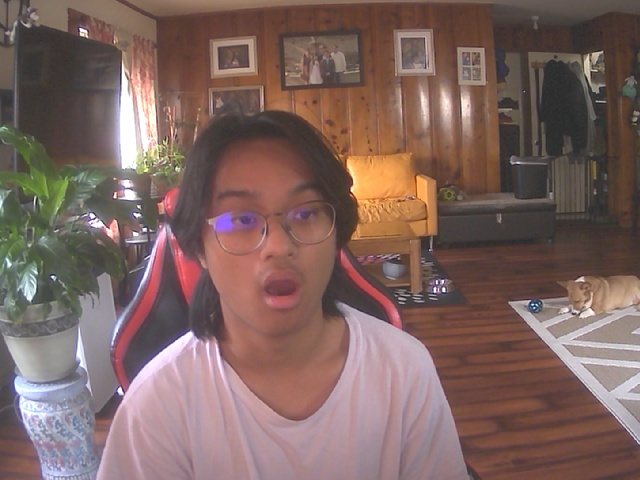fear: (195, 119, 347, 343)
